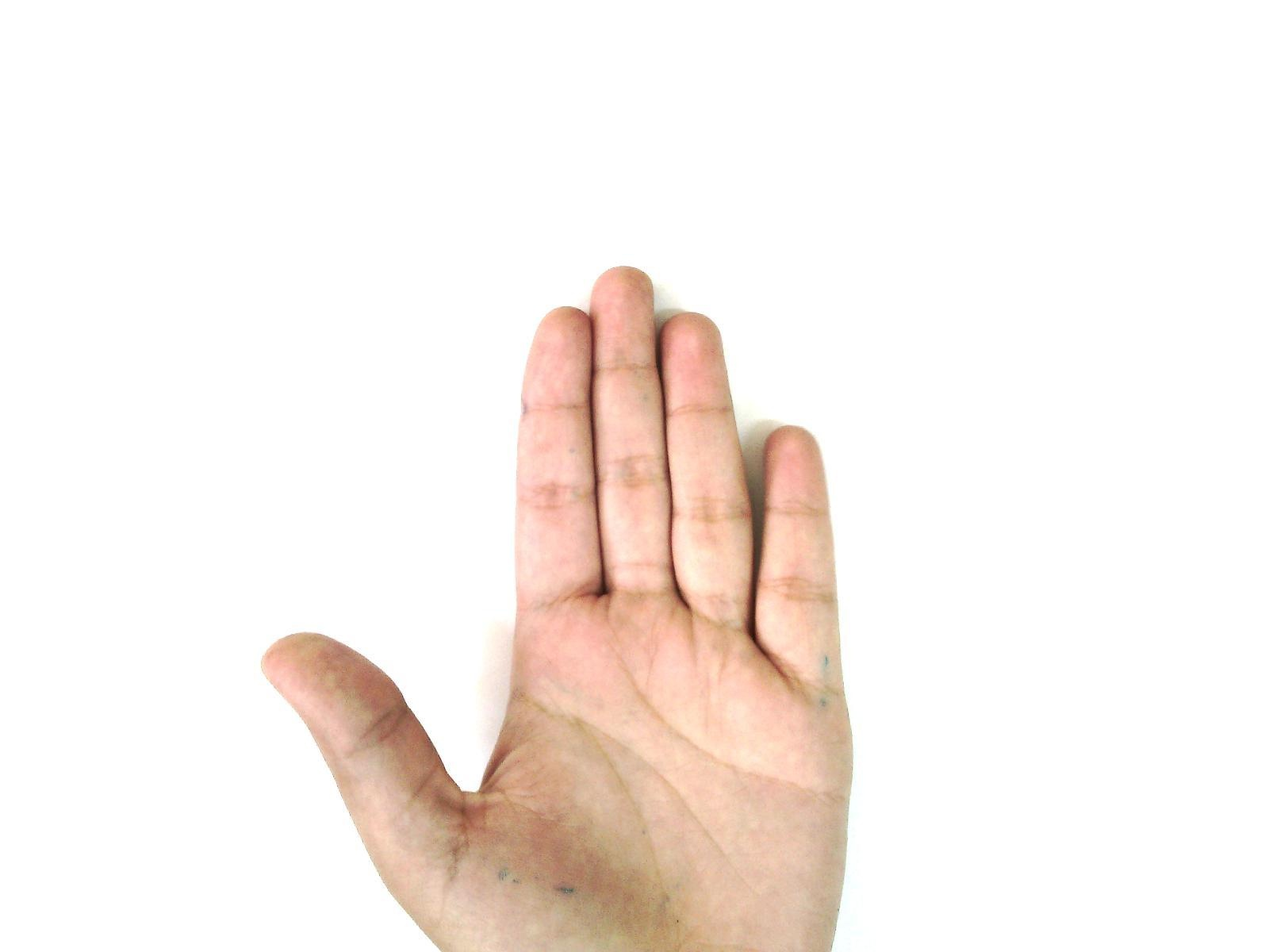open_palm: (260, 265, 858, 951)
